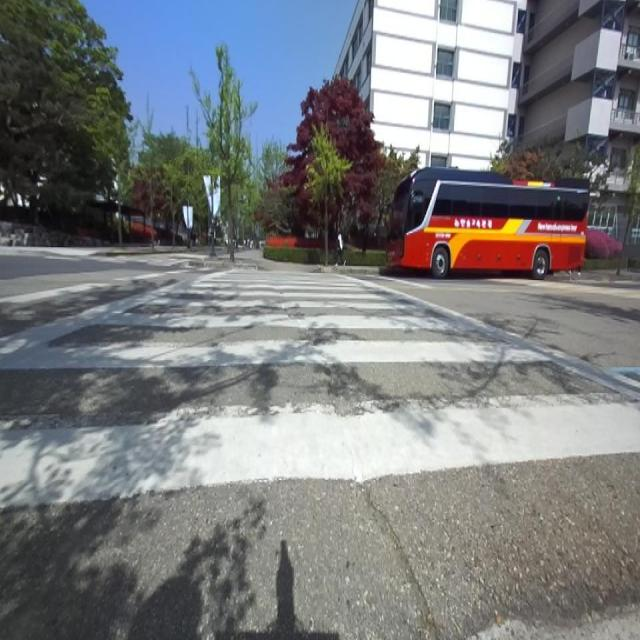sidewalk: (236, 249, 317, 272), (0, 246, 116, 256), (126, 247, 151, 251), (154, 245, 170, 251)
